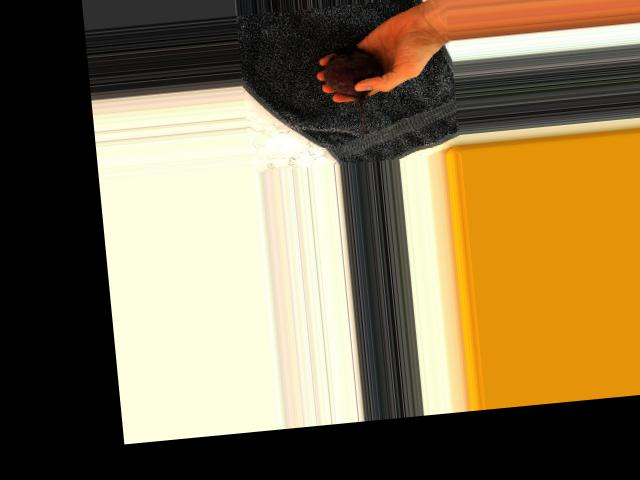beet: (320, 42, 387, 142)
